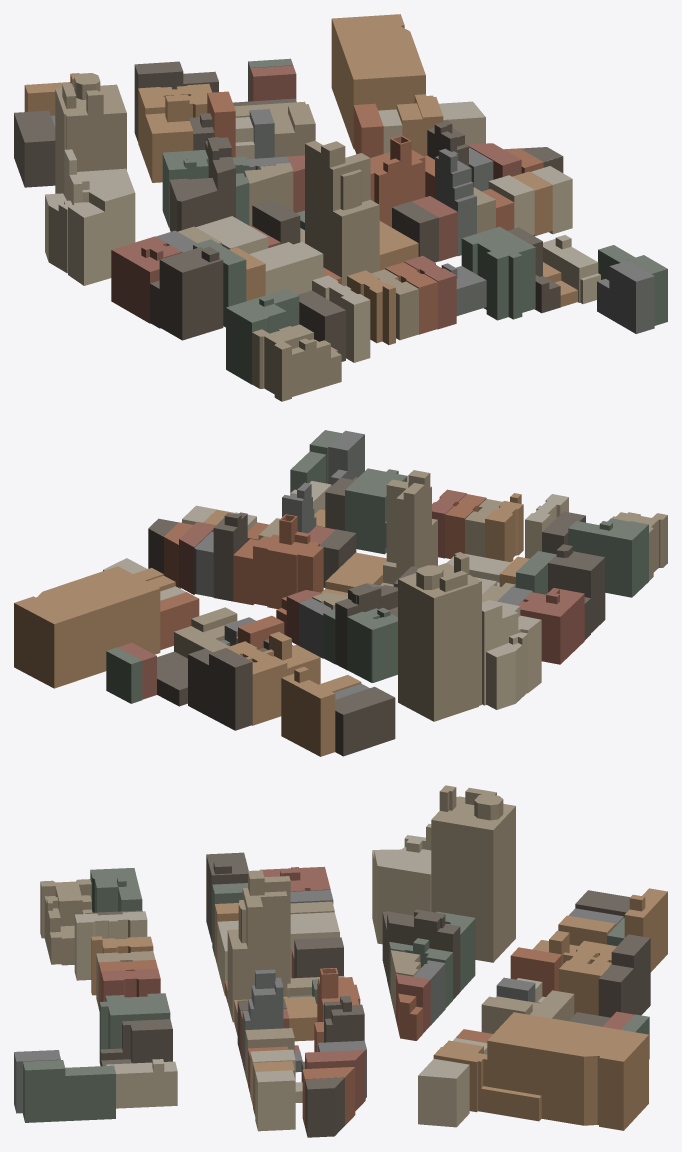
The model's file is tile-2_9.glb.
The picture shows the model from 3 angles, top to bottom: view 1: azimuth 30°, elevation 25°; view 2: azimuth 150°, elevation 25°; view 3: azimuth 270°, elevation 25°; orthographic projection. The views are drawn at different scales.
Visible parts, largest first — view 1: wall, roof; view 2: wall, roof; view 3: wall, roof.
Boxes of the visible parts, x1,y1,x2,y2 form: wall: (14,19,667,401); roof: (14,14,667,357); wall: (14,434,667,756); roof: (14,430,667,714); wall: (14,787,667,1137); roof: (14,785,667,1098).
Size of the model in its own units: 169 by 57.64 by 214.
